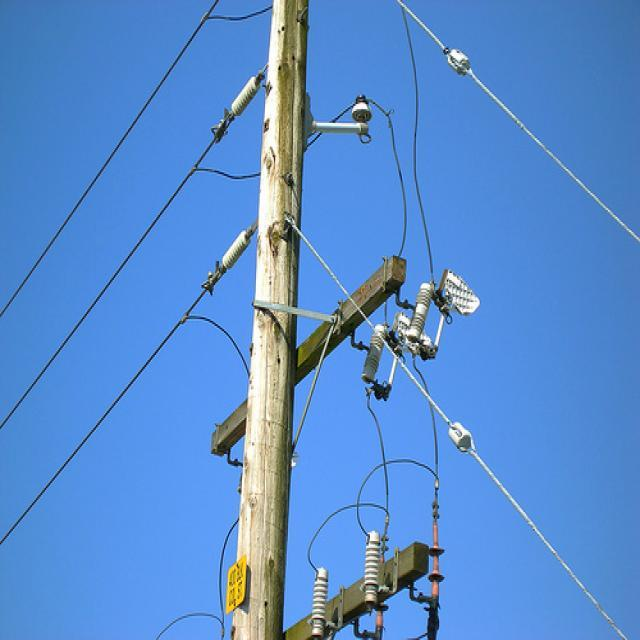crossarm: (211, 255, 407, 456), (287, 543, 429, 640)
pole: (225, 0, 361, 640)
wire: (283, 215, 621, 640), (0, 102, 269, 431), (0, 5, 276, 319), (3, 265, 253, 550), (395, 0, 640, 250), (306, 95, 412, 260), (402, 16, 439, 286)
